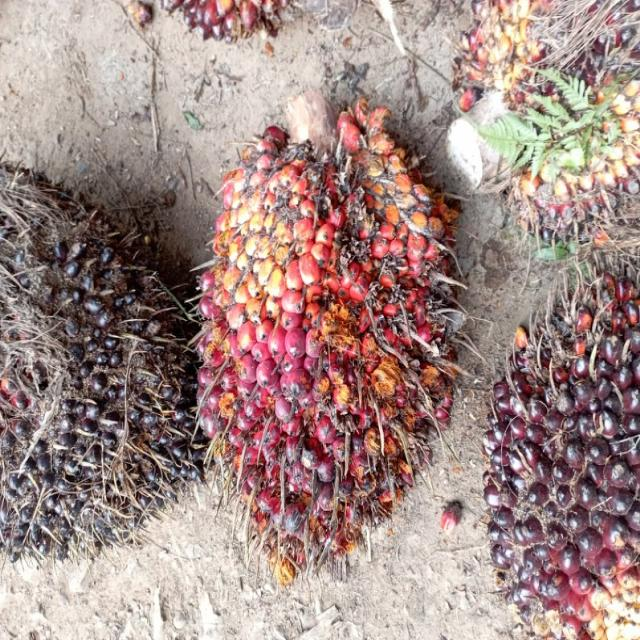fraksi 00: (0, 152, 234, 611)
fraksi 3: (129, 65, 514, 619)
